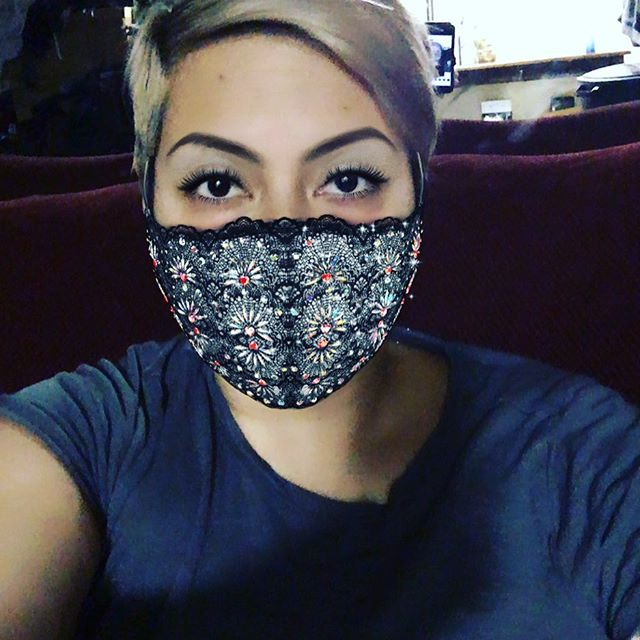homemade: (139, 216, 423, 404)
